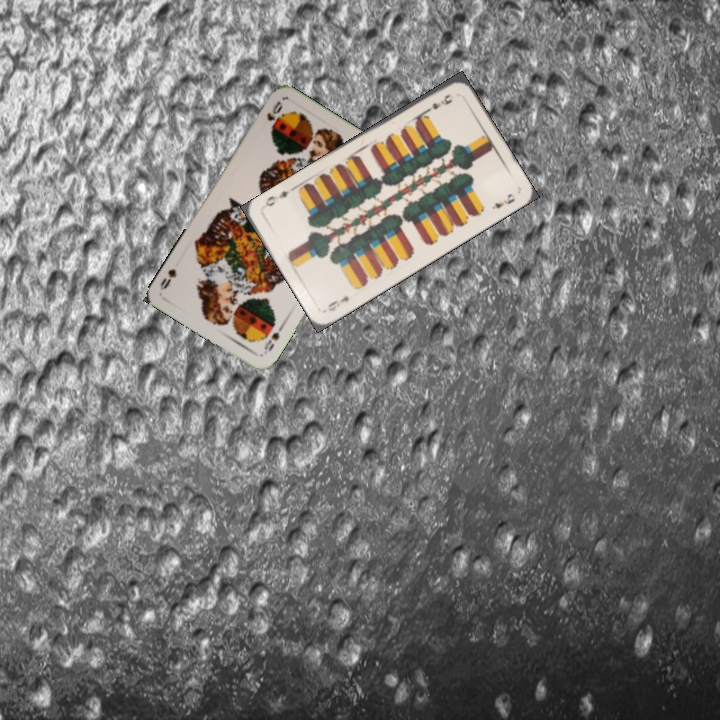E9: (324, 292, 352, 314), (428, 90, 454, 112)
SO: (259, 321, 287, 357), (262, 97, 285, 131)
